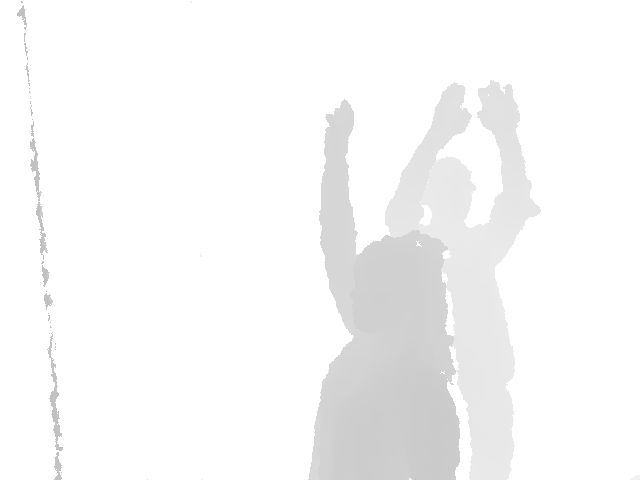hand: (475, 80, 522, 132), (430, 82, 472, 137), (322, 98, 356, 154)
head: (349, 230, 450, 350), (416, 156, 476, 222)
person: (382, 79, 543, 480), (303, 99, 462, 480)
